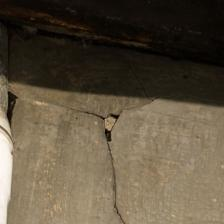Crack: (20, 93, 105, 122), (100, 138, 128, 224), (104, 97, 157, 140)
